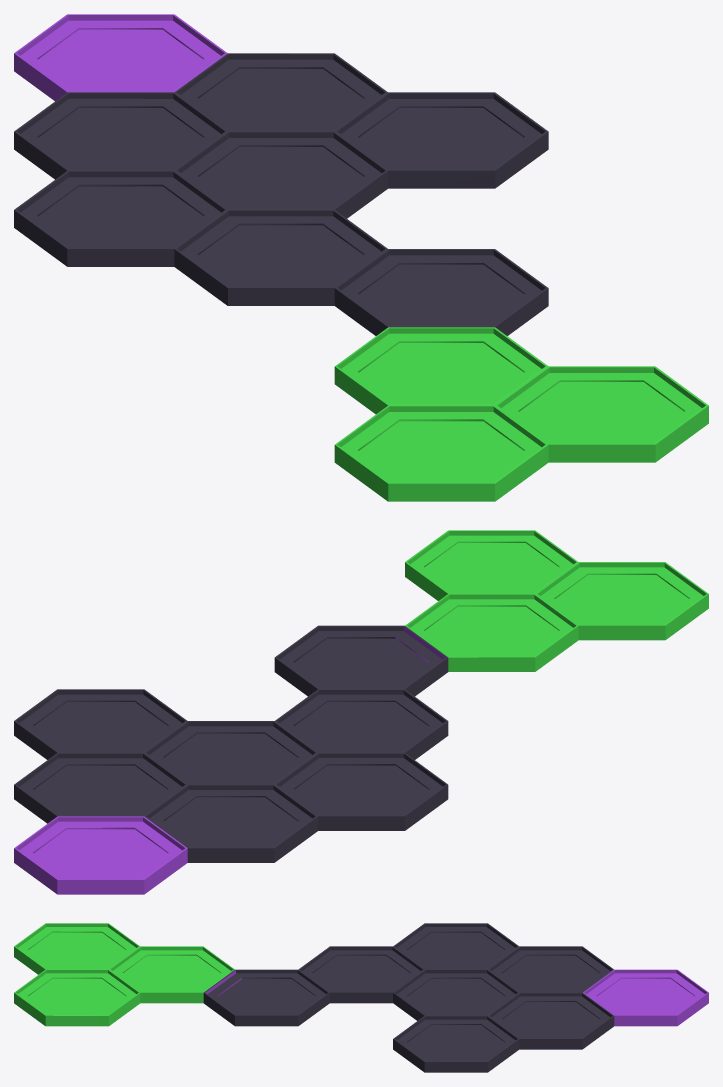
The model's file is MoldInsertStage3_4.fbx.
3 renders of one model, top to bottom at view 1: azimuth 30°, elevation 25°; view 2: azimuth 150°, elevation 25°; view 3: azimuth 270°, elevation 25°, orthographic. The views are drawn at different scales.
Visible parts, largest first — view 1: MoldInsertStage3_4; view 2: MoldInsertStage3_4; view 3: MoldInsertStage3_4.
Boxes of the visible parts, left/top/right/bottom form: MoldInsertStage3_4: left=14, top=14, right=708, bottom=501; MoldInsertStage3_4: left=14, top=530, right=708, bottom=894; MoldInsertStage3_4: left=14, top=923, right=708, bottom=1072.
Bounding box in the file's own units: 546 × 19.72 × 1156.
